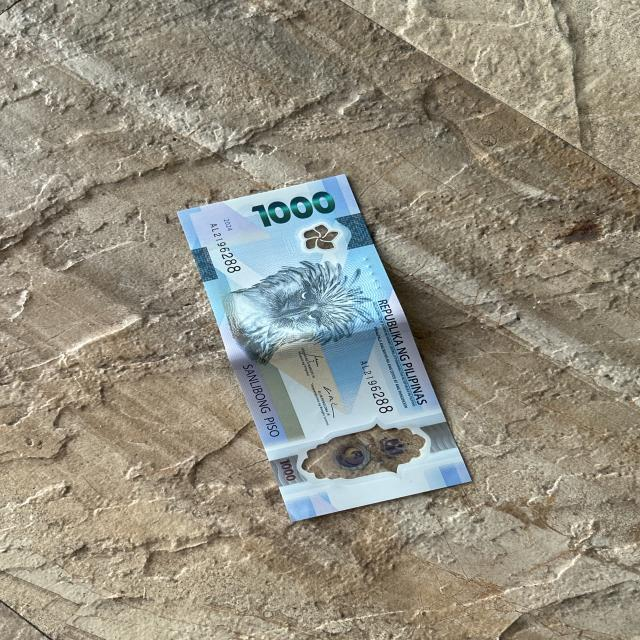clear_window: (280, 425, 456, 484)
eagle: (215, 260, 392, 351)
sampaguita: (292, 225, 345, 254)
